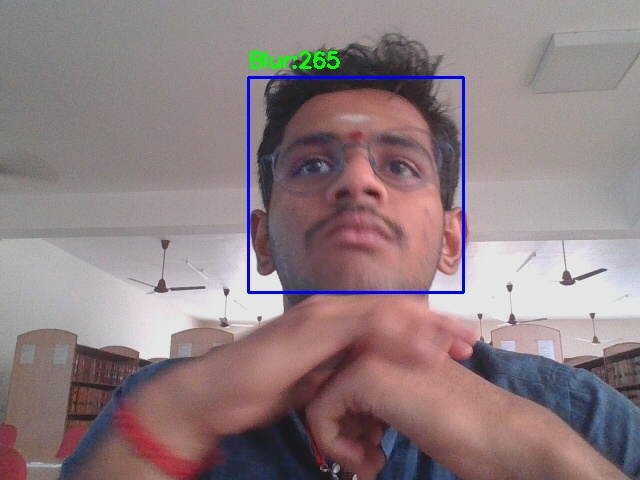real: (248, 77, 463, 292)
